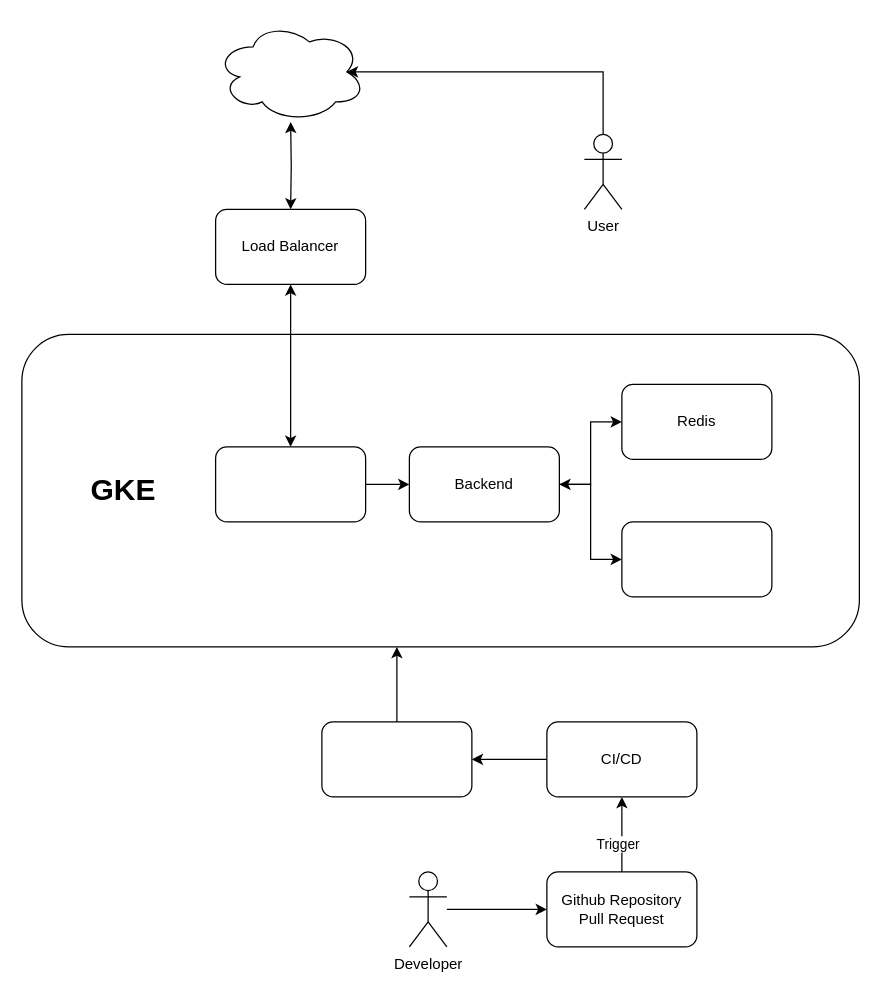
Image size: 881x995. Some labels were removed from this diagram. Here are the shapes that lost their labels. From the top down, the centre of each, then its label:
At (x=290, y=71): "Cloudflare".
At (x=290, y=484): "Frontend".
At (x=696, y=559): "PostgreSQL".
At (x=396, y=759): "Terraform".
